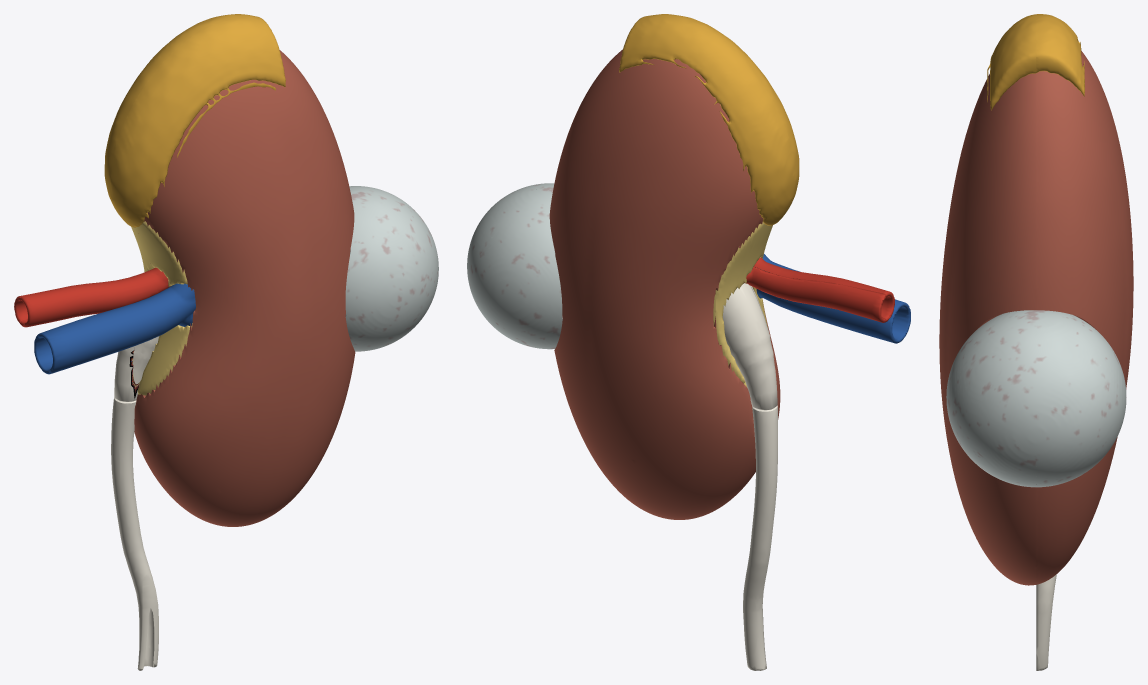
Rendered from kidney_bosniak_3_coronal.glb.
3 views of the same model, side by side, from view 1: azimuth 30°, elevation 25°; view 2: azimuth 150°, elevation 25°; view 3: azimuth 270°, elevation 25° (orthographic). The views are drawn at different scales.
Parts seen in each view (by area): view 1: anterior_half, ureter, adrenal_gland, renal_pelvis; view 2: renal_cortex, adrenal_gland, cyst, anterior_half, ureter, renal_pelvis, renal_artery, renal_sinus; view 3: anterior_half, renal_cortex, cyst, adrenal_gland, ureter.
Part boxes in pixels (x1,y1,x2,y2): anterior_half: [20, 18, 438, 526]; ureter: [111, 397, 158, 670]; adrenal_gland: [104, 14, 263, 224]; renal_pelvis: [114, 346, 139, 401]; renal_cortex: [549, 49, 763, 519]; adrenal_gland: [619, 15, 795, 225]; cyst: [467, 189, 562, 349]; anterior_half: [506, 14, 910, 511]; ureter: [743, 405, 777, 670]; renal_pelvis: [722, 283, 777, 410]; renal_artery: [744, 267, 886, 322]; renal_sinus: [713, 222, 768, 387]; anterior_half: [939, 14, 1036, 585]; renal_cortex: [1036, 51, 1133, 584]; cyst: [1036, 310, 1126, 487]; adrenal_gland: [1036, 14, 1084, 96]; ureter: [1036, 574, 1056, 670].
Bounding box in the file's own units: 9.65 × 14.23 × 3.66.
1 material, 1 textured.
